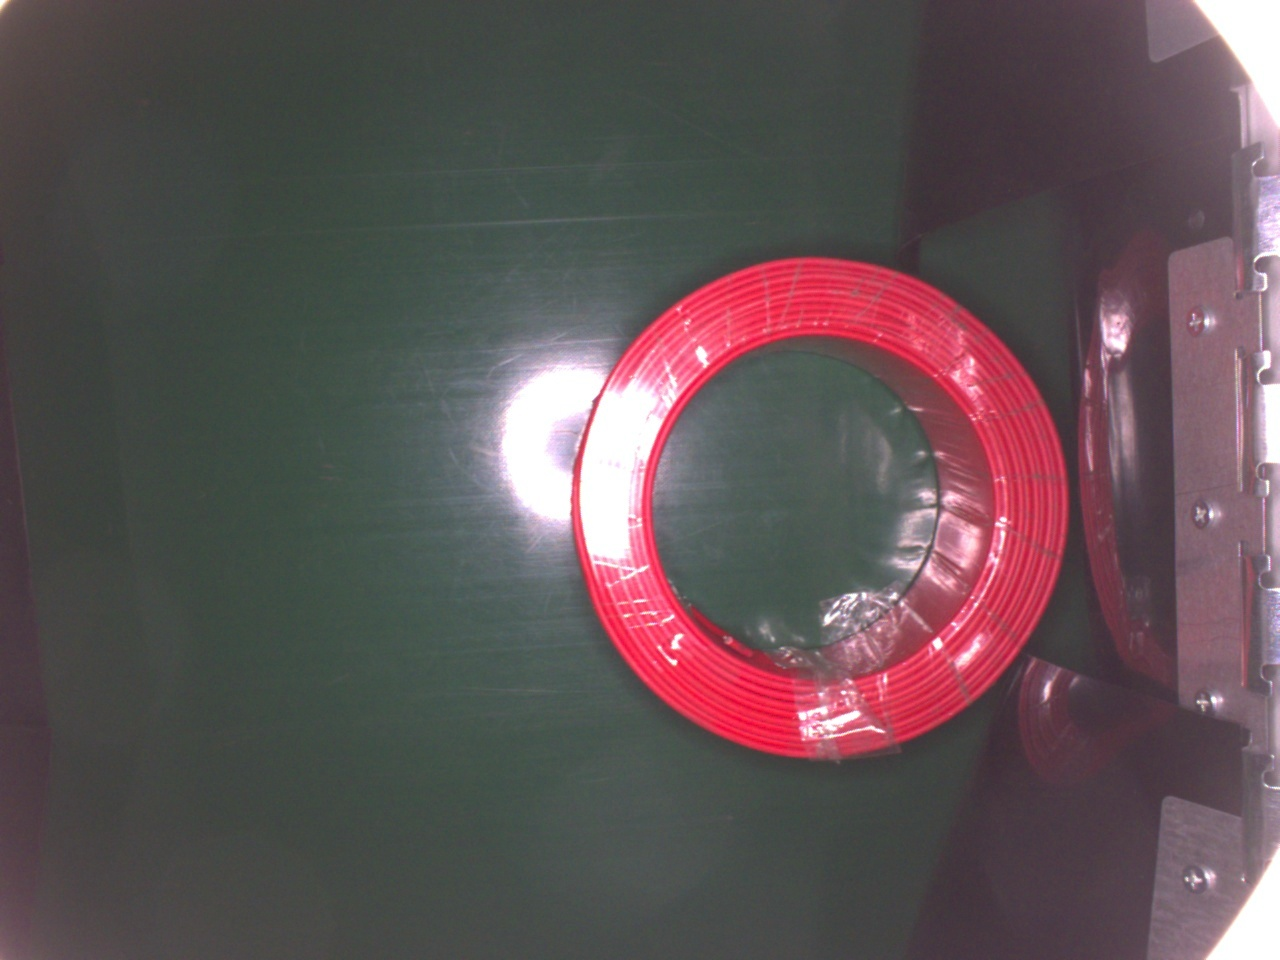red: (562, 248, 1072, 765)
